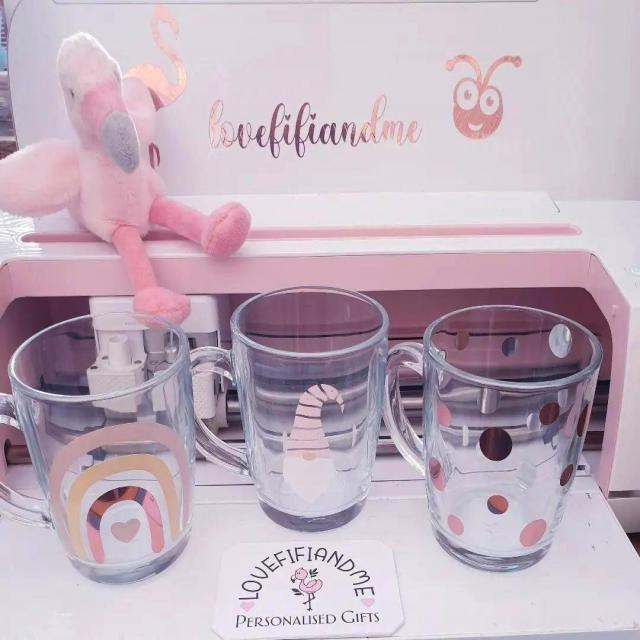glass-mug: (384, 302, 604, 584), (0, 305, 205, 586), (184, 288, 395, 539)
